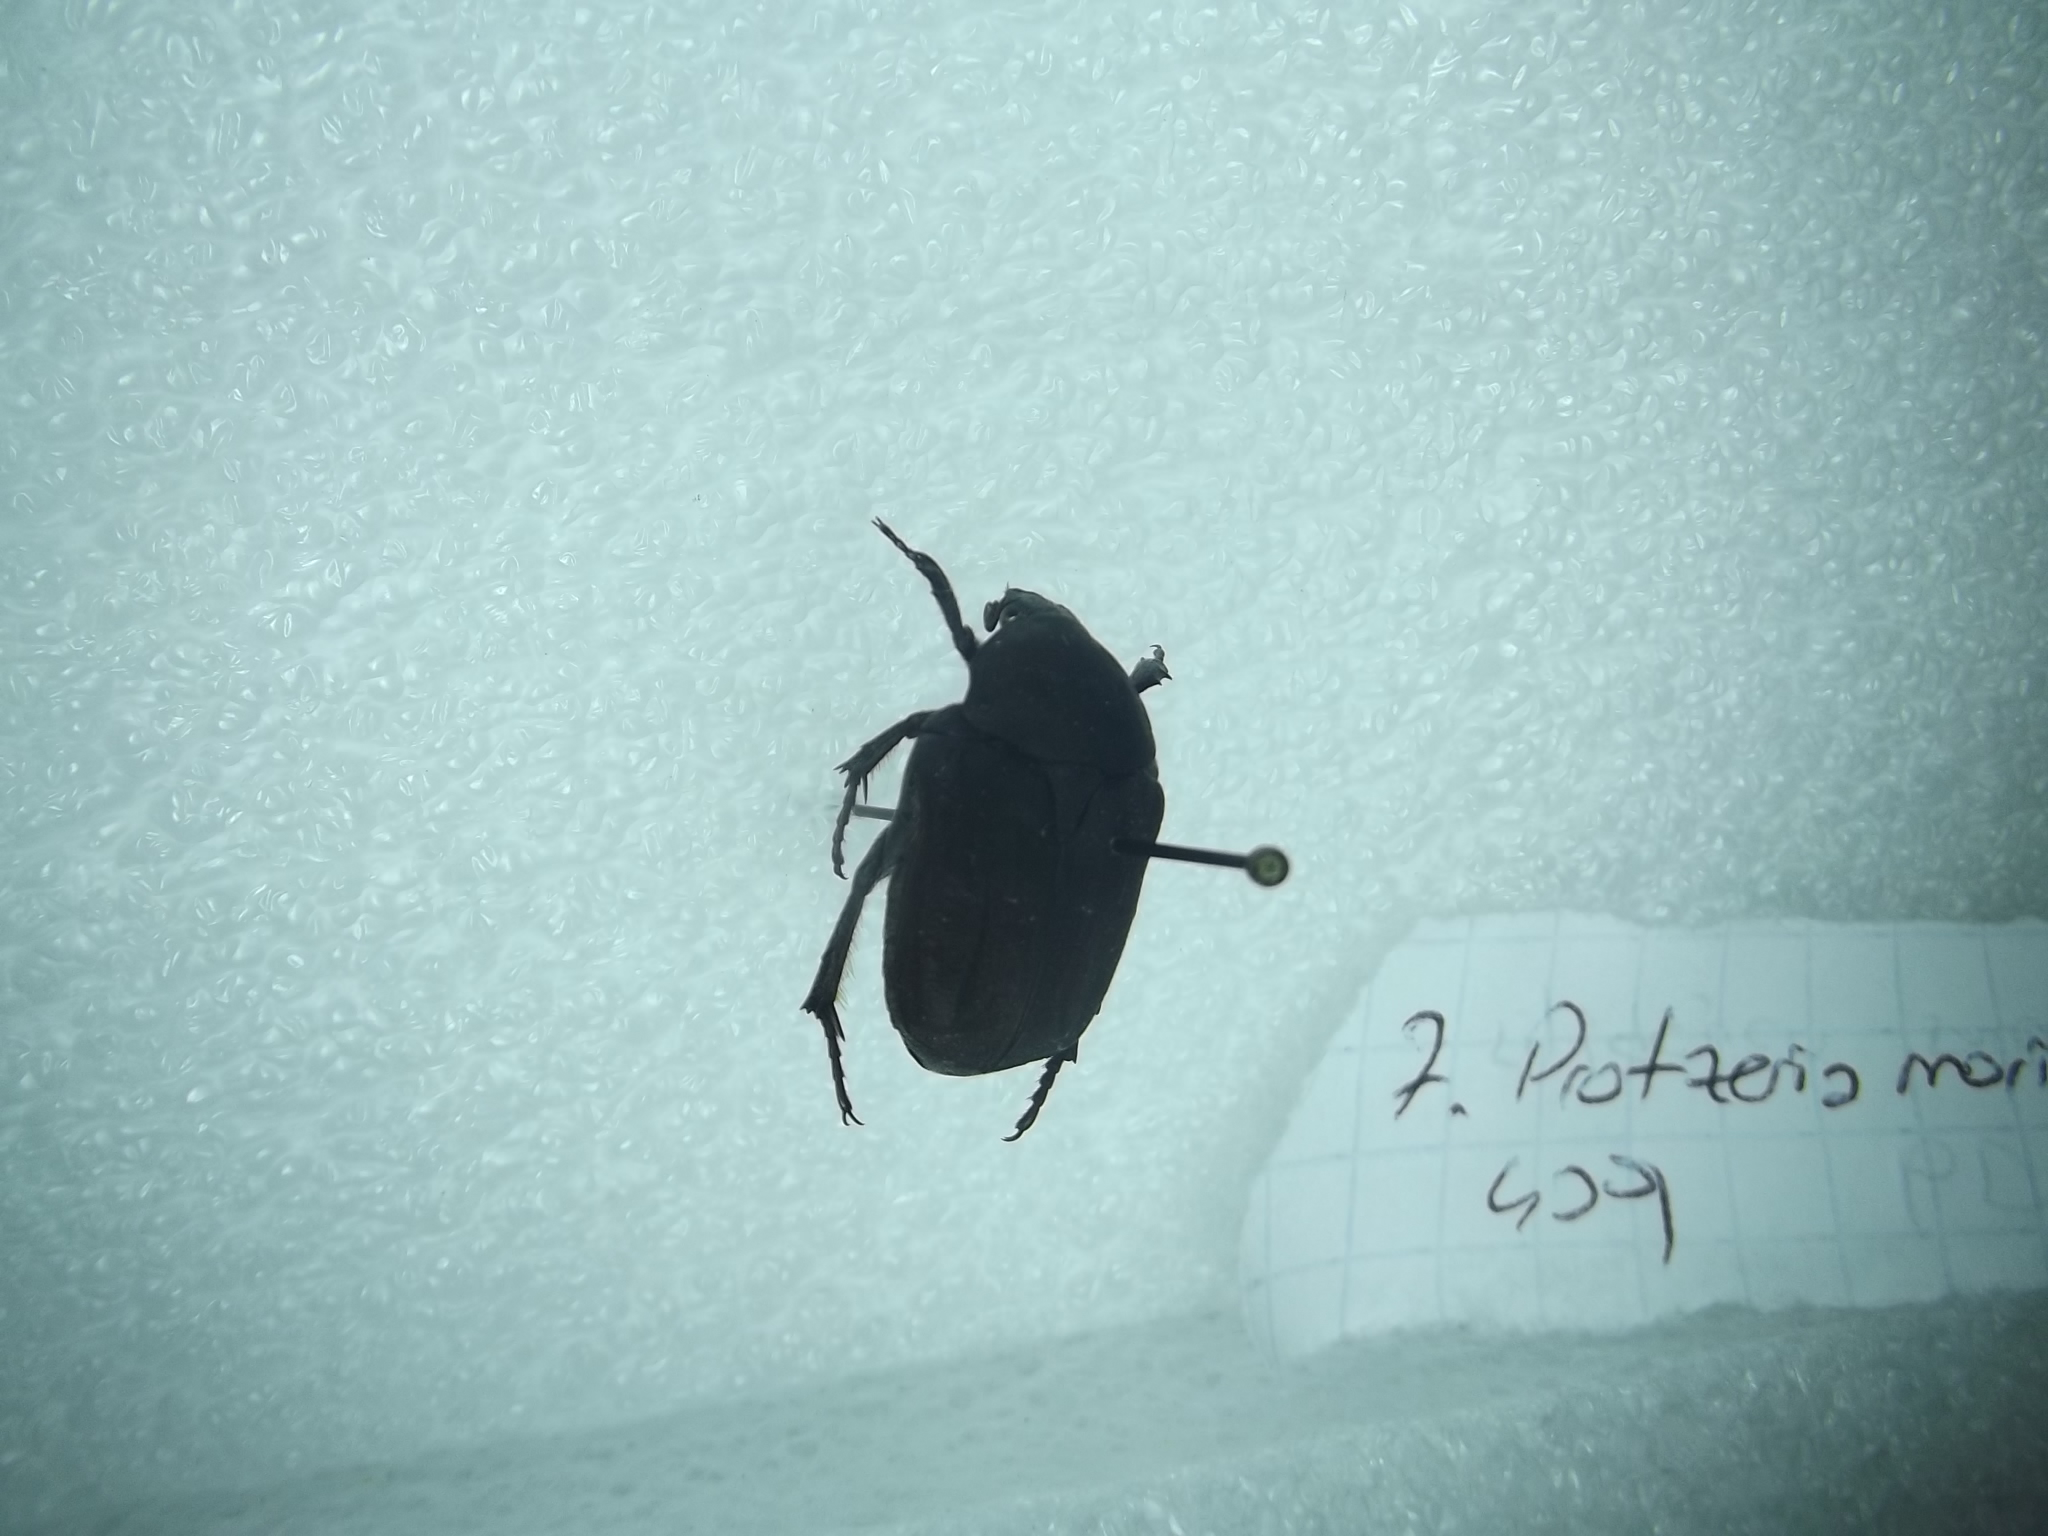Protaetia_morio_morio: (784, 516, 1229, 1146)
